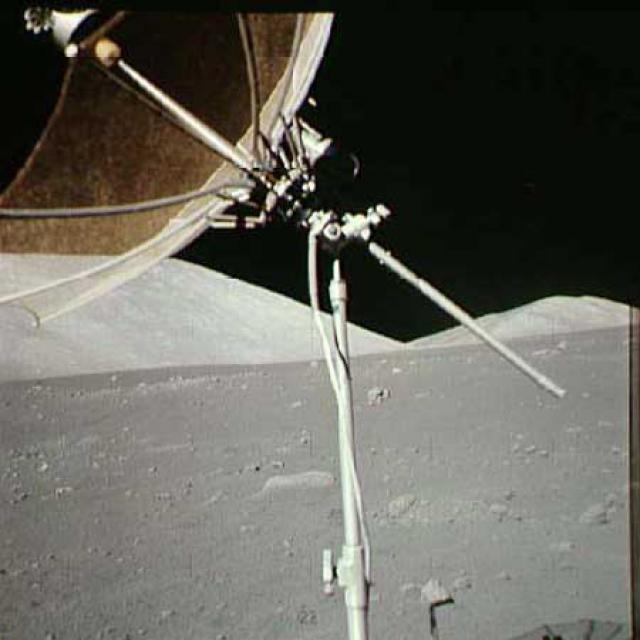artifact: (0, 0, 567, 411), (303, 411, 400, 639)
rock: (244, 468, 348, 495), (410, 574, 454, 609), (577, 494, 625, 526), (363, 379, 397, 407), (382, 491, 414, 516)
